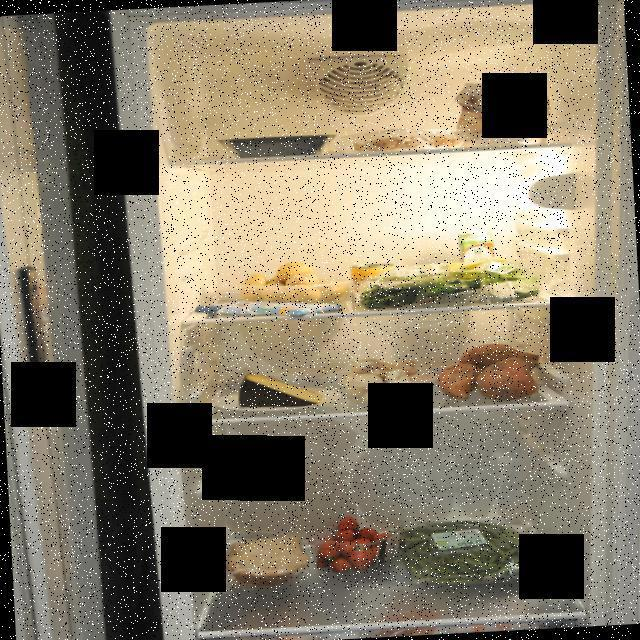bread: (224, 532, 313, 593)
cheese: (235, 368, 324, 410)
chocolate: (193, 294, 345, 324)
corn: (347, 261, 400, 310)
flour: (446, 74, 560, 150)
green_beans: (398, 514, 558, 586)
heavy_cream: (458, 227, 498, 296)
mushrooms: (338, 355, 438, 408)
potato: (234, 258, 354, 308)
shrimp: (352, 132, 466, 154)
spinach: (356, 258, 552, 312)
strawberries: (310, 512, 402, 578)
sweet_potato: (436, 339, 550, 404)
